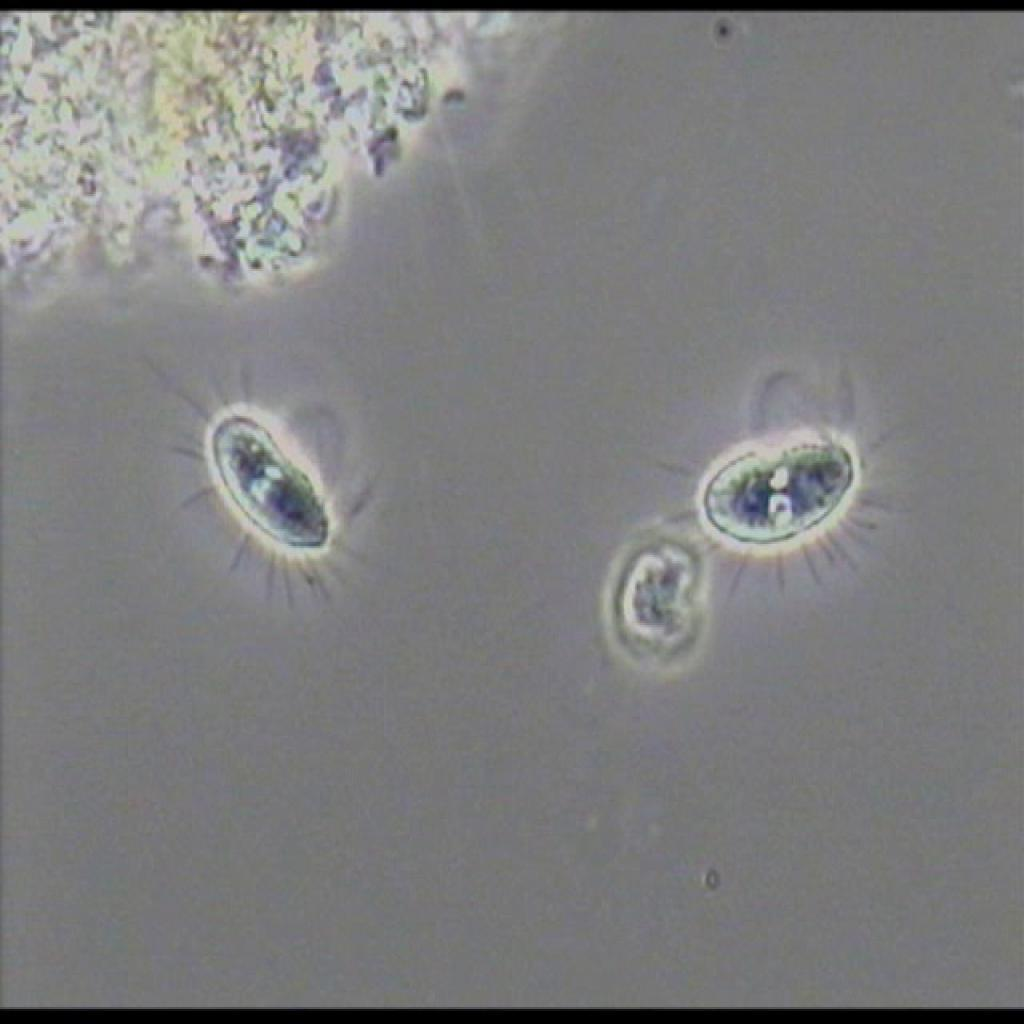Cyclidium: (141, 334, 397, 607), (654, 378, 917, 591)
